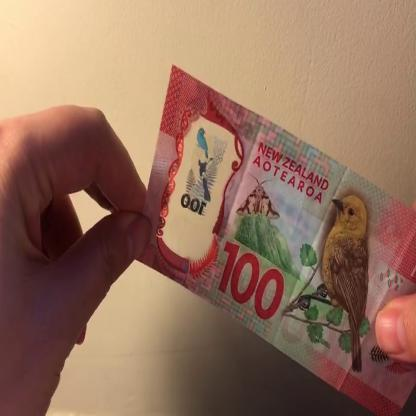100B: (175, 122, 235, 230)
